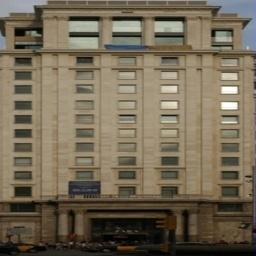building: (1, 0, 256, 256)
